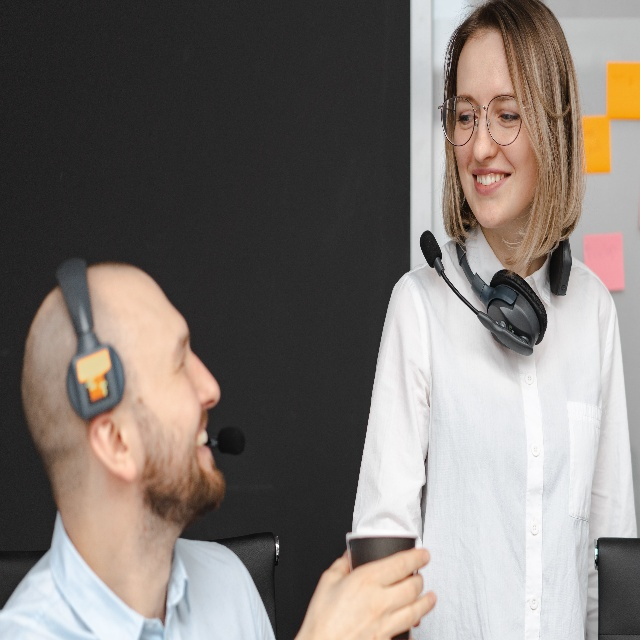Gafas: (438, 96, 531, 147)
Sin_guantes: (296, 536, 434, 640)
